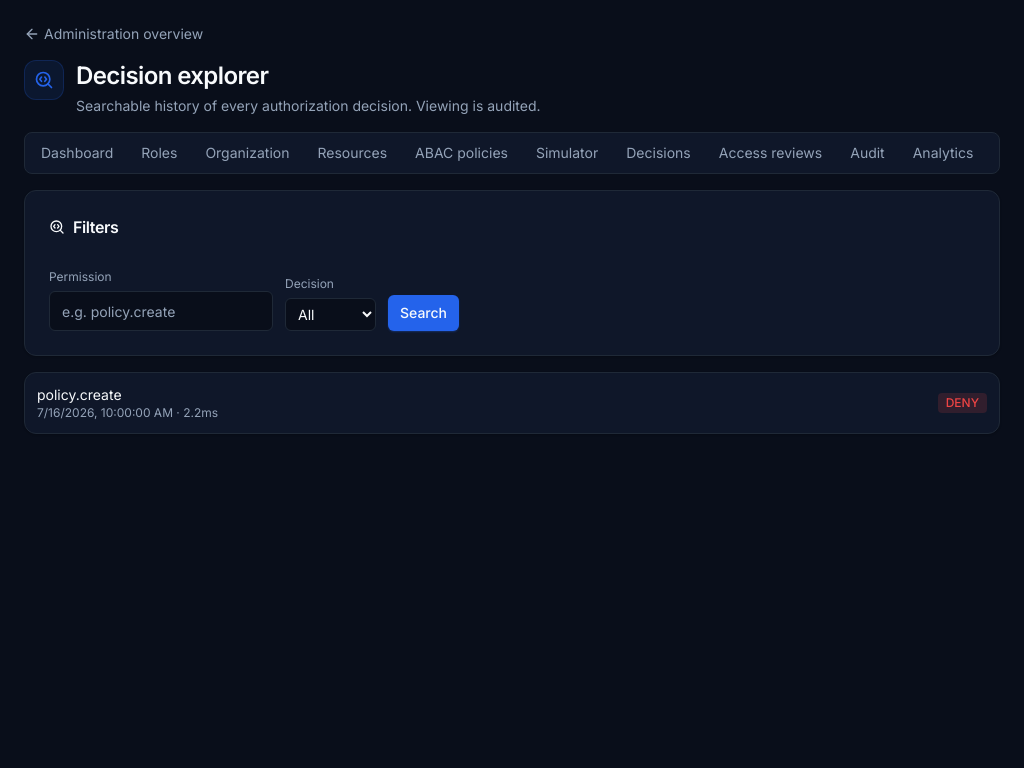
DecisionExplorerPage (§13) › lists decisions and expands the explanation
The width and height of the screenshot is (1024, 768).
Expected: the list with test id "decision-list" is shown, [25,373,999,433]
Expected: the text "DENY" is shown, [938,393,987,413]
Click the text "policy.create" at point(79, 394), box [37,386,122,403]
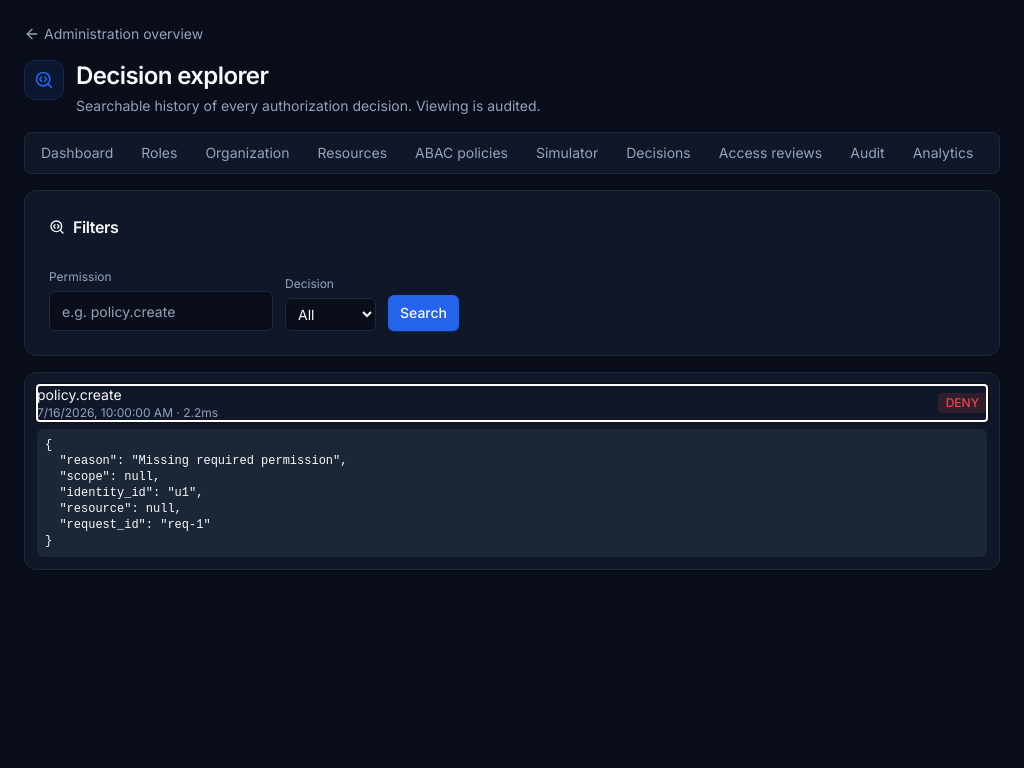
Expected: the text with test id "decision-detail" shows "Missing required permission", [45,438,348,548]
